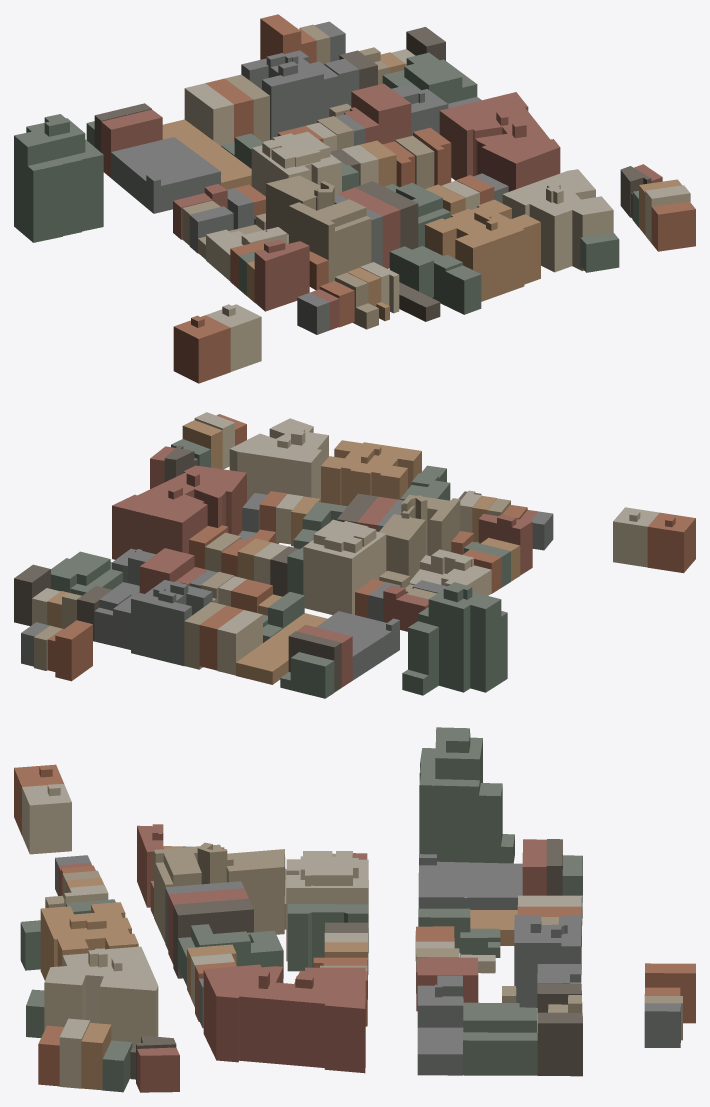
The model's file is tile--5_-4.glb.
The picture shows the model from 3 angles, top to bottom: view 1: azimuth 30°, elevation 25°; view 2: azimuth 150°, elevation 25°; view 3: azimuth 270°, elevation 25°; orthographic projection. The views are drawn at different scales.
Visible parts, largest first — view 1: wall, roof; view 2: wall, roof; view 3: wall, roof.
Part boxes in pixels (x1=…): wall: x1=14, y1=19, x2=695, y2=383; roof: x1=14, y1=14, x2=695, y2=338; wall: x1=14, y1=418, x2=695, y2=698; roof: x1=14, y1=412, x2=695, y2=680; wall: x1=14, y1=730, x2=695, y2=1092; roof: x1=14, y1=727, x2=695, y2=1060.
Bounding box in the file's own units: 200 × 38.06 × 203.
